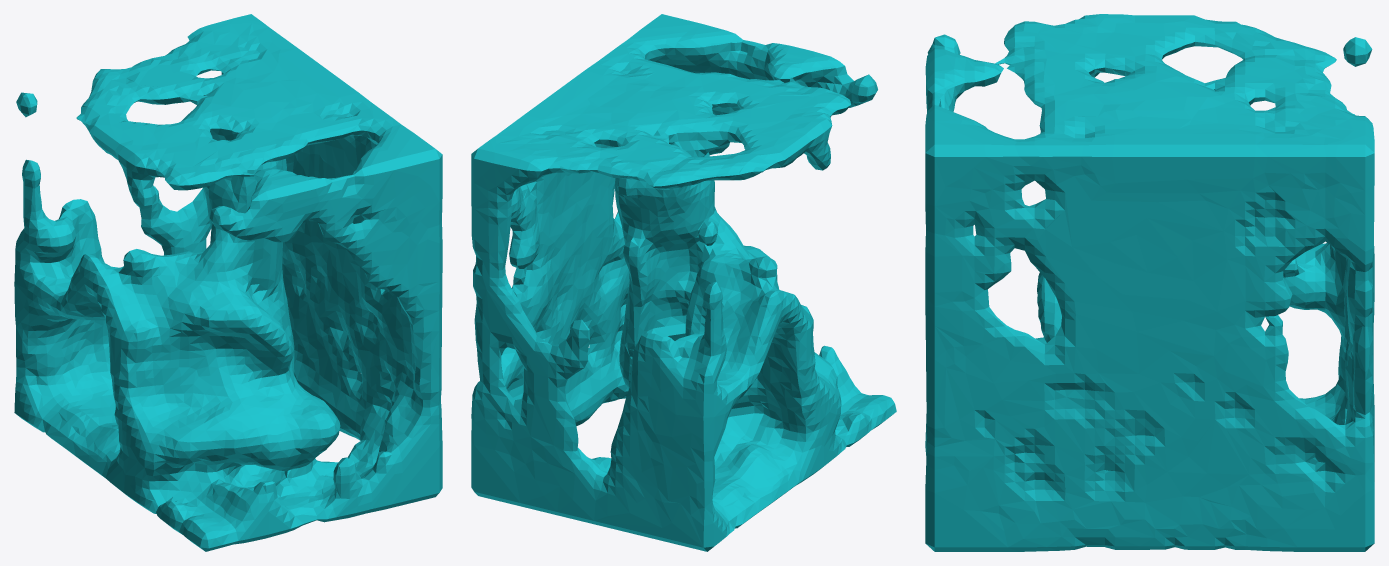
The picture shows the model from 3 angles, left to right: view 1: azimuth 30°, elevation 25°; view 2: azimuth 150°, elevation 25°; view 3: azimuth 270°, elevation 25°; orthographic projection. The views are drawn at different scales.
Parts seen in each view (by area): view 1: Liquid_Domain; view 2: Liquid_Domain; view 3: Liquid_Domain.
Boxes of the visible parts, left/top/right/bottom form: Liquid_Domain: left=14, top=14, right=442, bottom=551; Liquid_Domain: left=471, top=14, right=896, bottom=551; Liquid_Domain: left=925, top=14, right=1374, bottom=551.
Size of the model in its own units: 79.14 by 108 by 108.
